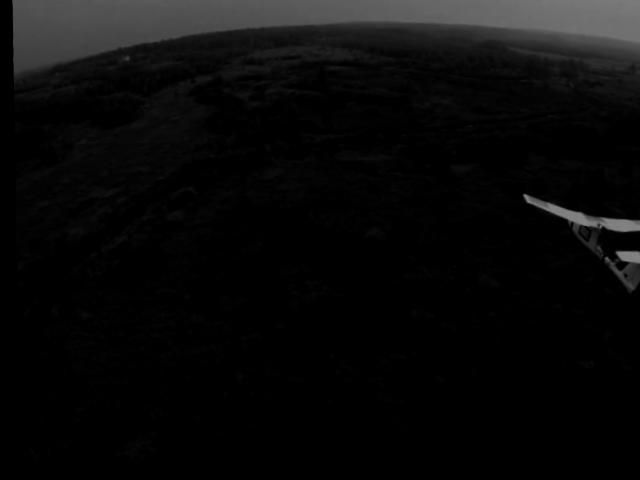hedef: (514, 190, 640, 316)
